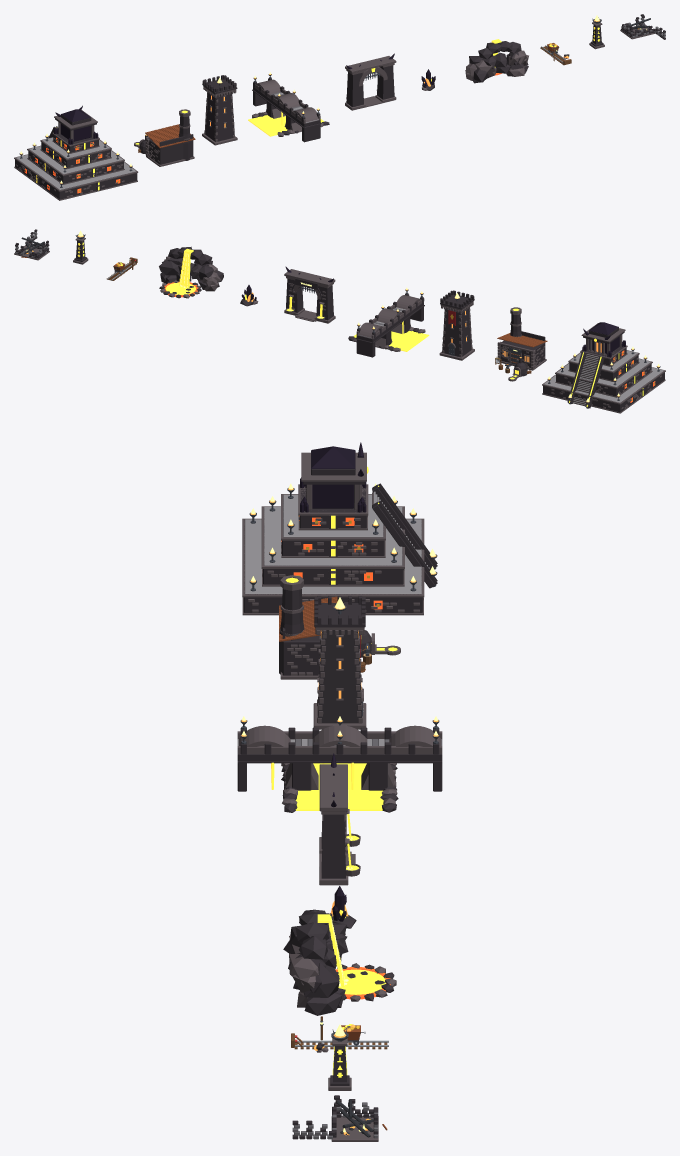
The model's file is Volcano.fbx.
The picture shows the model from 3 angles, top to bottom: view 1: azimuth 30°, elevation 25°; view 2: azimuth 150°, elevation 25°; view 3: azimuth 270°, elevation 25°; orthographic projection. The views are drawn at different scales.
Parts seen in each view (by area): view 1: ObsidianTemple_Basalt, ObsidianTemple, ObsidianTemple_Stone, Watchtower_Basalt, LavaBridge_Basalt, LavaFall_Basalt, LavaBridge_BasaltLight, LavaForge_Basalt, MagmaGate_Basalt, MagmaGate_BasaltLight, ObsidianTemple_Obsidian, LavaFall_BasaltLight (+5 smaller); view 2: ObsidianTemple, ObsidianTemple_Basalt, ObsidianTemple_Stone, LavaFall_Basalt, Watchtower_Basalt, LavaBridge_BasaltLight, LavaBridge_Basalt, MagmaGate_BasaltLight, MagmaGate_Basalt, LavaForge_Basalt, LavaForge_BasaltLight, Watchtower_BasaltLight (+6 smaller); view 3: ObsidianTemple_Basalt, ObsidianTemple, ObsidianTemple_Stone, LavaBridge_Basalt, LavaBridge_BasaltLight, Watchtower_Basalt, LavaFall_Basalt, LavaForge_Basalt, ObsidianTemple_Obsidian, MagmaGate_BasaltLight, Watchtower_BasaltLight, LavaBridge_Lava (+4 smaller).
Part boxes in pixels (x1,y1,x2,y2): ObsidianTemple_Basalt: (15,114,137,199); ObsidianTemple: (14,110,138,200); ObsidianTemple_Stone: (16,137,136,189); Watchtower_Basalt: (202,75,237,141); LavaBridge_Basalt: (252,78,329,142); LavaFall_Basalt: (469,41,528,83); LavaBridge_BasaltLight: (252,79,323,136); LavaForge_Basalt: (139,116,193,164); MagmaGate_Basalt: (346,65,394,107); MagmaGate_BasaltLight: (345,56,396,110); ObsidianTemple_Obsidian: (54,105,98,144); LavaFall_BasaltLight: (465,50,528,80); ObsidianTemple: (542,323,665,413); ObsidianTemple_Basalt: (543,327,664,412); ObsidianTemple_Stone: (544,350,663,405); LavaFall_Basalt: (159,246,223,298); Watchtower_Basalt: (440,290,474,356); LavaBridge_BasaltLight: (353,294,425,351); LavaBridge_Basalt: (348,293,424,357); MagmaGate_BasaltLight: (284,269,335,323); MagmaGate_Basalt: (286,278,333,320); LavaForge_Basalt: (500,314,545,376); LavaForge_BasaltLight: (497,307,546,381); Watchtower_BasaltLight: (439,301,474,360); ObsidianTemple_Basalt: (243,451,437,612); ObsidianTemple: (242,452,424,615); ObsidianTemple_Stone: (245,491,429,593); LavaBridge_Basalt: (237,727,442,812); LavaBridge_BasaltLight: (237,725,442,805); Watchtower_Basalt: (314,595,365,723); LavaFall_Basalt: (283,909,394,1015); LavaForge_Basalt: (279,588,371,675); ObsidianTemple_Obsidian: (300,442,366,512); MagmaGate_BasaltLight: (319,764,360,885); Watchtower_BasaltLight: (313,627,366,729); LavaBridge_Lava: (271,762,383,810).
Size of the model in its own units: 446 by 46.39 by 64.
